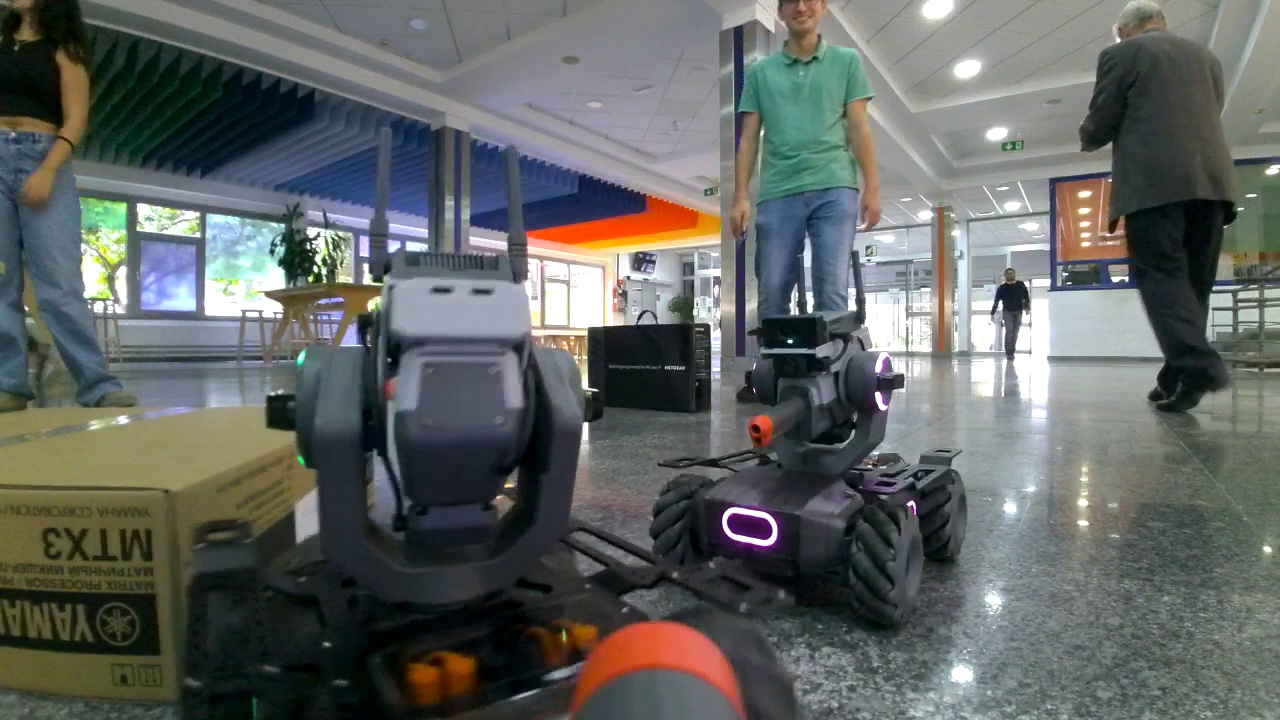robot: (189, 244, 624, 717), (648, 307, 972, 635)
